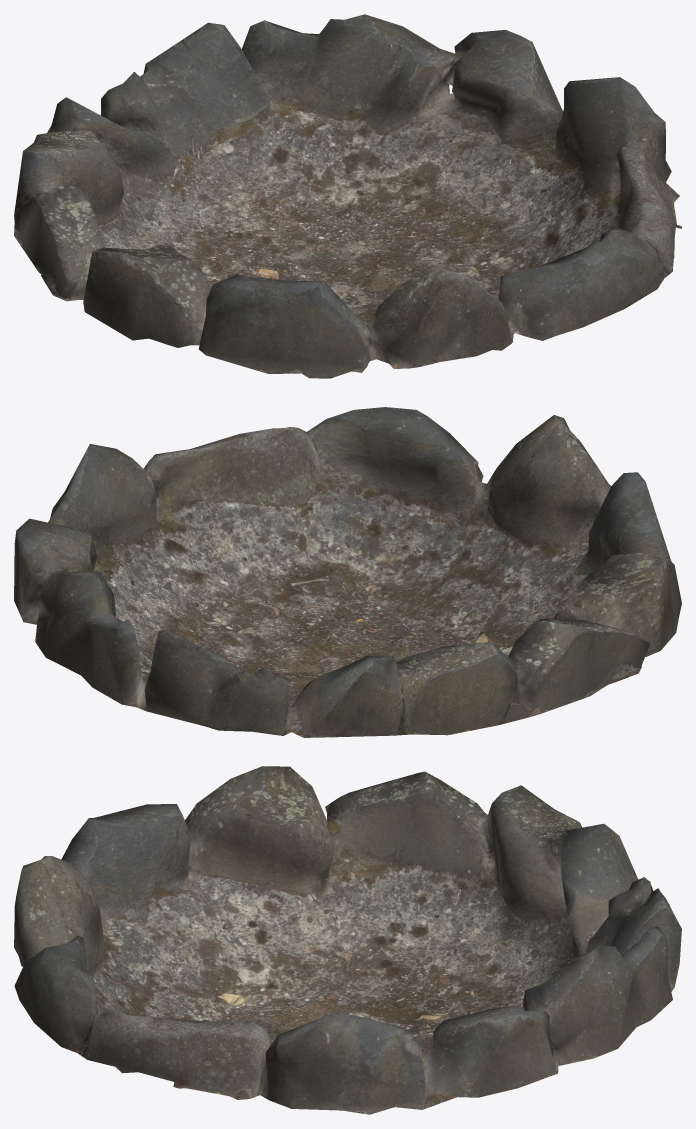
File: stone_fire_pit.glb
The picture shows the model from 3 angles, top to bottom: view 1: azimuth 30°, elevation 25°; view 2: azimuth 150°, elevation 25°; view 3: azimuth 270°, elevation 25°; orthographic projection.
Visible parts, largest first — view 1: stone_fire_pit; view 2: stone_fire_pit; view 3: stone_fire_pit.
Part boxes in pixels (x1,y1,x2,y2): stone_fire_pit: (14,14,681,378); stone_fire_pit: (14,407,681,737); stone_fire_pit: (14,766,681,1114).
Size of the model in its own units: 1.45 by 0.3883 by 1.43.
1 material, 1 textured.
